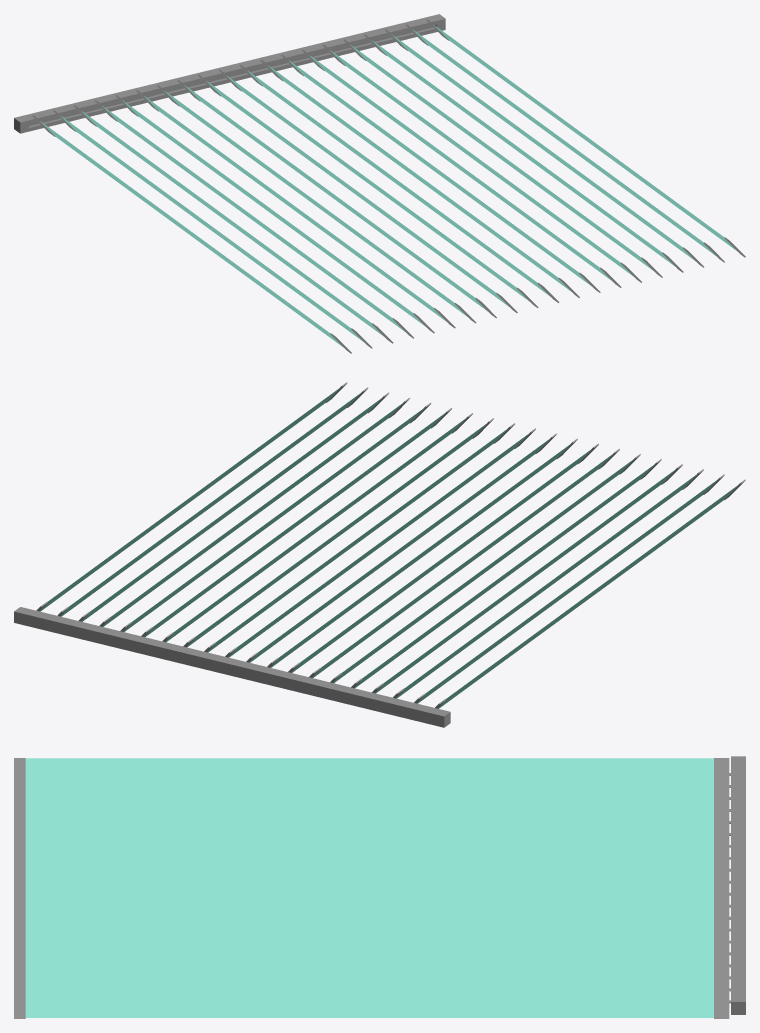
Rendered from Blinds.FBX.
The picture shows the model from 3 angles, top to bottom: view 1: azimuth 30°, elevation 25°; view 2: azimuth 150°, elevation 25°; view 3: azimuth 270°, elevation 25°; orthographic projection. The views are drawn at different scales.
Parts seen in each view (by area): view 1: VB_sin_LP, VB_logo_LP019, VB_logo_LP014, VB_logo_LP016, VB_logo_LP, VB_logo_LP005, VB_logo_LP010, VB_logo_LP002, VB_logo_LP006, VB_logo_LP011, VB_logo_LP001, VB_logo_LP015 (+9 smaller); view 2: VB_sin_LP, VB_logo_LP017, VB_logo_LP019, VB_logo_LP016, VB_logo_LP006, VB_logo_LP007, VB_logo_LP015, VB_logo_LP018, VB_logo_LP005, VB_logo_LP002, VB_logo_LP003, VB_logo_LP004 (+9 smaller); view 3: VB_logo_LP019, VB_logo_LP012, VB_logo_LP013, VB_logo_LP014, VB_logo_LP001, VB_logo_LP002, VB_logo_LP003, VB_logo_LP015, VB_logo_LP016, VB_logo_LP017, VB_logo_LP018, VB_logo_LP (+9 smaller).
Part boxes in pixels (bbox=[...]): VB_sin_LP: bbox=[14, 14, 445, 133]; VB_logo_LP019: bbox=[426, 19, 745, 257]; VB_logo_LP014: bbox=[322, 44, 641, 282]; VB_logo_LP016: bbox=[364, 34, 683, 272]; VB_logo_LP: bbox=[32, 115, 351, 353]; VB_logo_LP005: bbox=[136, 90, 455, 328]; VB_logo_LP010: bbox=[240, 64, 559, 302]; VB_logo_LP002: bbox=[74, 105, 393, 343]; VB_logo_LP006: bbox=[157, 85, 476, 323]; VB_logo_LP011: bbox=[260, 59, 579, 297]; VB_logo_LP001: bbox=[53, 110, 372, 348]; VB_logo_LP015: bbox=[343, 39, 662, 277]; VB_sin_LP: bbox=[14, 607, 450, 727]; VB_logo_LP017: bbox=[78, 392, 389, 621]; VB_logo_LP019: bbox=[36, 382, 347, 611]; VB_logo_LP016: bbox=[99, 397, 410, 626]; VB_logo_LP006: bbox=[309, 448, 619, 677]; VB_logo_LP007: bbox=[288, 443, 598, 672]; VB_logo_LP015: bbox=[120, 402, 431, 631]; VB_logo_LP018: bbox=[57, 387, 368, 616]; VB_logo_LP005: bbox=[330, 454, 640, 683]; VB_logo_LP002: bbox=[393, 469, 703, 698]; VB_logo_LP003: bbox=[372, 464, 682, 693]; VB_logo_LP004: bbox=[351, 459, 661, 688]; VB_logo_LP019: bbox=[14, 985, 730, 1018]; VB_logo_LP012: bbox=[14, 901, 730, 919]; VB_logo_LP013: bbox=[14, 913, 730, 931]; VB_logo_LP014: bbox=[14, 925, 730, 943]; VB_logo_LP001: bbox=[14, 769, 730, 787]; VB_logo_LP002: bbox=[14, 781, 730, 799]; VB_logo_LP003: bbox=[14, 793, 730, 811]; VB_logo_LP015: bbox=[14, 937, 730, 955]; VB_logo_LP016: bbox=[14, 949, 730, 967]; VB_logo_LP017: bbox=[14, 961, 730, 979]; VB_logo_LP018: bbox=[14, 973, 730, 991]; VB_logo_LP: bbox=[14, 758, 730, 775].
Size of the model in its own units: 220 by 10.32 by 277.
